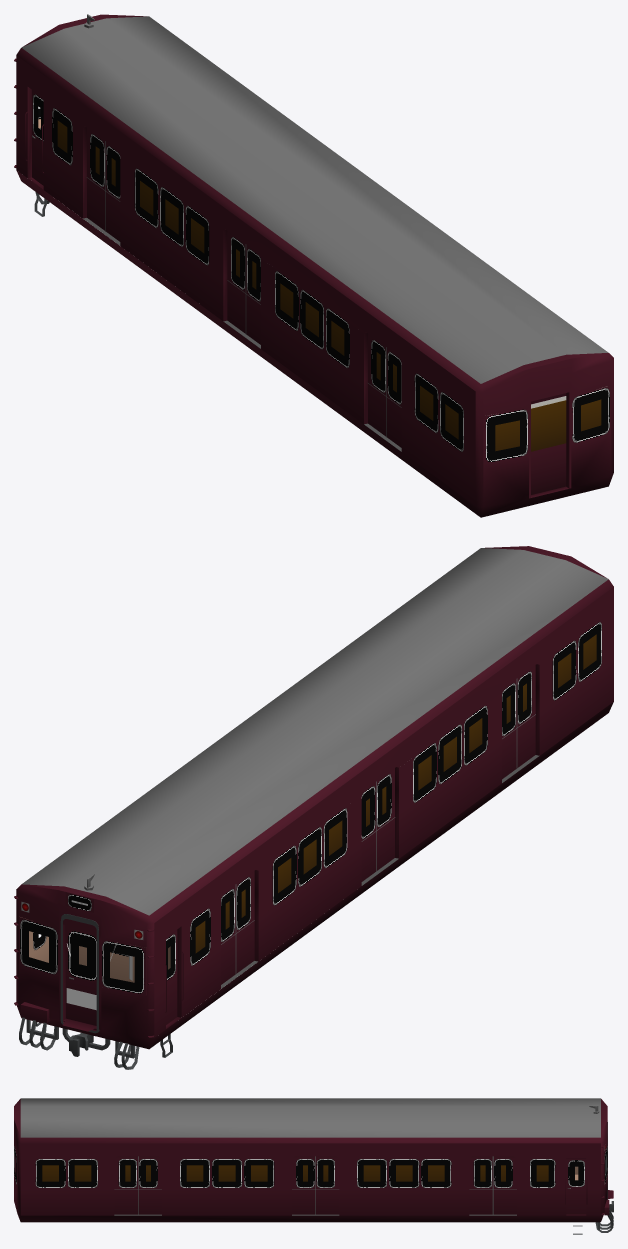
3 views of the same model, one above another, from view 1: azimuth 30°, elevation 25°; view 2: azimuth 150°, elevation 25°; view 3: azimuth 270°, elevation 25° (orthographic). The views are drawn at different scales.
Visible parts, largest first — view 1: obj1; view 2: obj1; view 3: obj1.
Boxes of the visible parts, x1,y1,x2,y2 form: obj1: (14,14,613,517); obj1: (14,546,613,1069); obj1: (14,1098,613,1234).
Bounding box in the file's own units: 6.68 × 8.08 × 38.87.
15 materials, 14 textured.
